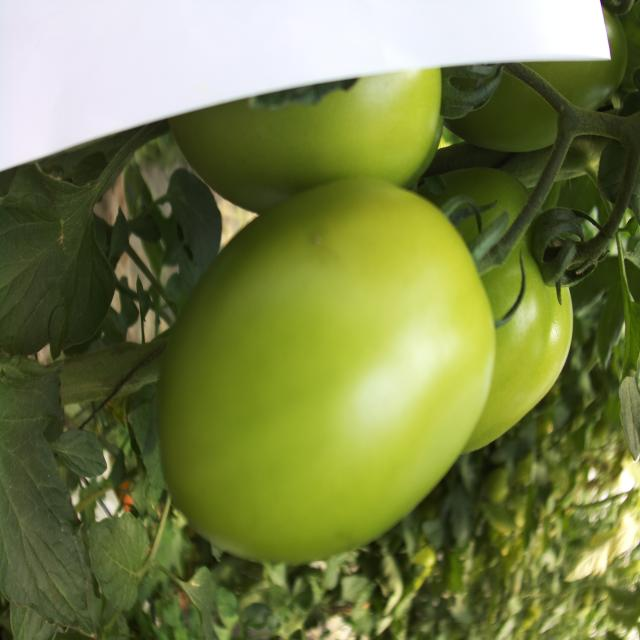yesil: (140, 143, 536, 556)
